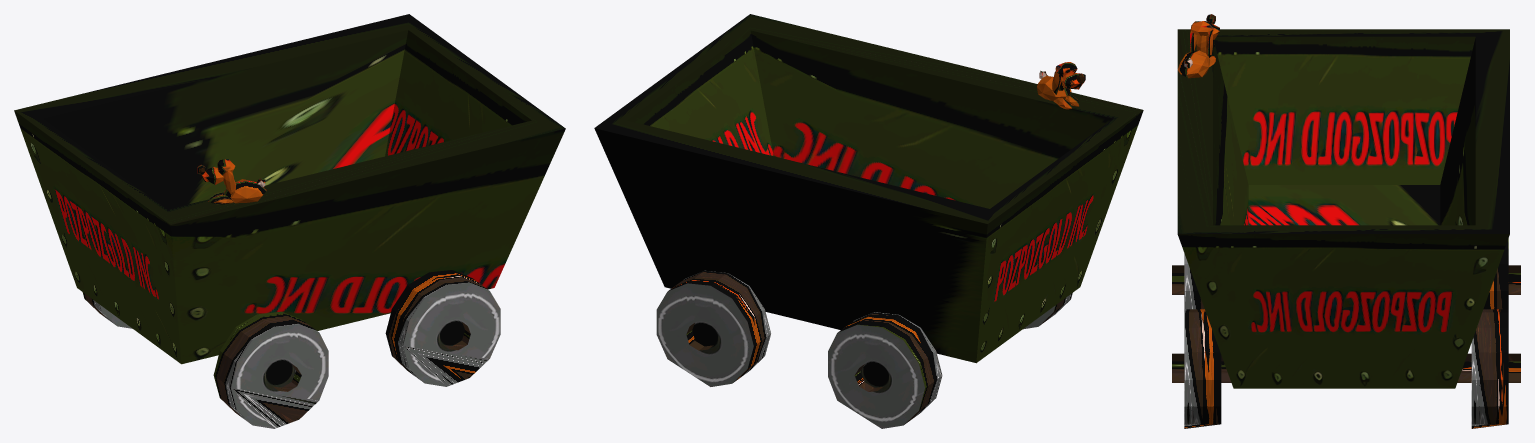
Rendered from minerBKP.glb.
3 views of the same model, side by side, from view 1: azimuth 30°, elevation 25°; view 2: azimuth 150°, elevation 25°; view 3: azimuth 270°, elevation 25° (orthographic). The views are drawn at different scales.
Visible parts, largest first — view 1: minerBKP; view 2: minerBKP; view 3: minerBKP.
Boxes of the visible parts, x1,y1,x2,y2 form: minerBKP: [14, 14, 565, 428]; minerBKP: [594, 14, 1143, 428]; minerBKP: [1172, 14, 1520, 428].
Bounding box in the file's own units: 263 × 173 × 189.
1 material, 1 textured.
